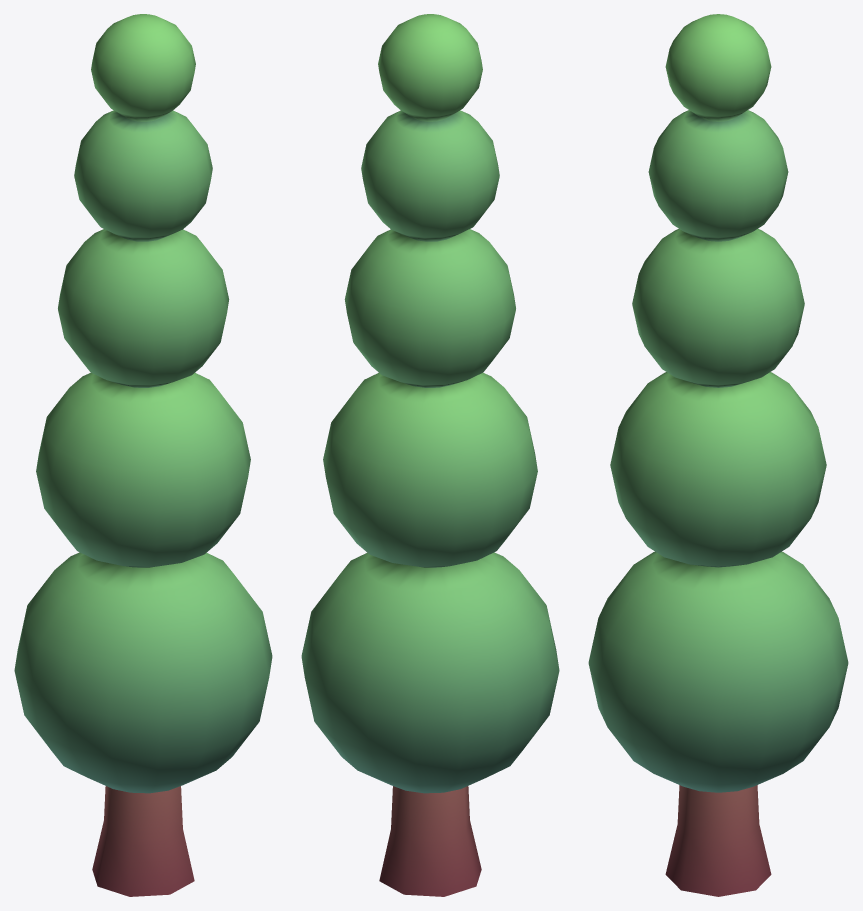
The model's file is Tree_Sphere_01.fbx.
3 views of the same model, side by side, from view 1: azimuth 30°, elevation 25°; view 2: azimuth 150°, elevation 25°; view 3: azimuth 270°, elevation 25° (orthographic).
Visible parts, largest first — view 1: Tree_Sphere_01_Leaves, Tree_Sphere_01_Trunk; view 2: Tree_Sphere_01_Leaves, Tree_Sphere_01_Trunk; view 3: Tree_Sphere_01_Leaves, Tree_Sphere_01_Trunk.
Boxes of the visible parts, x1,y1,x2,y2 form: Tree_Sphere_01_Leaves: (14, 14, 272, 793); Tree_Sphere_01_Trunk: (92, 786, 194, 896); Tree_Sphere_01_Leaves: (301, 14, 559, 793); Tree_Sphere_01_Trunk: (379, 786, 481, 896); Tree_Sphere_01_Leaves: (588, 14, 848, 792); Tree_Sphere_01_Trunk: (665, 785, 771, 896).
Bounding box in the file's own units: 176 × 639 × 176.
